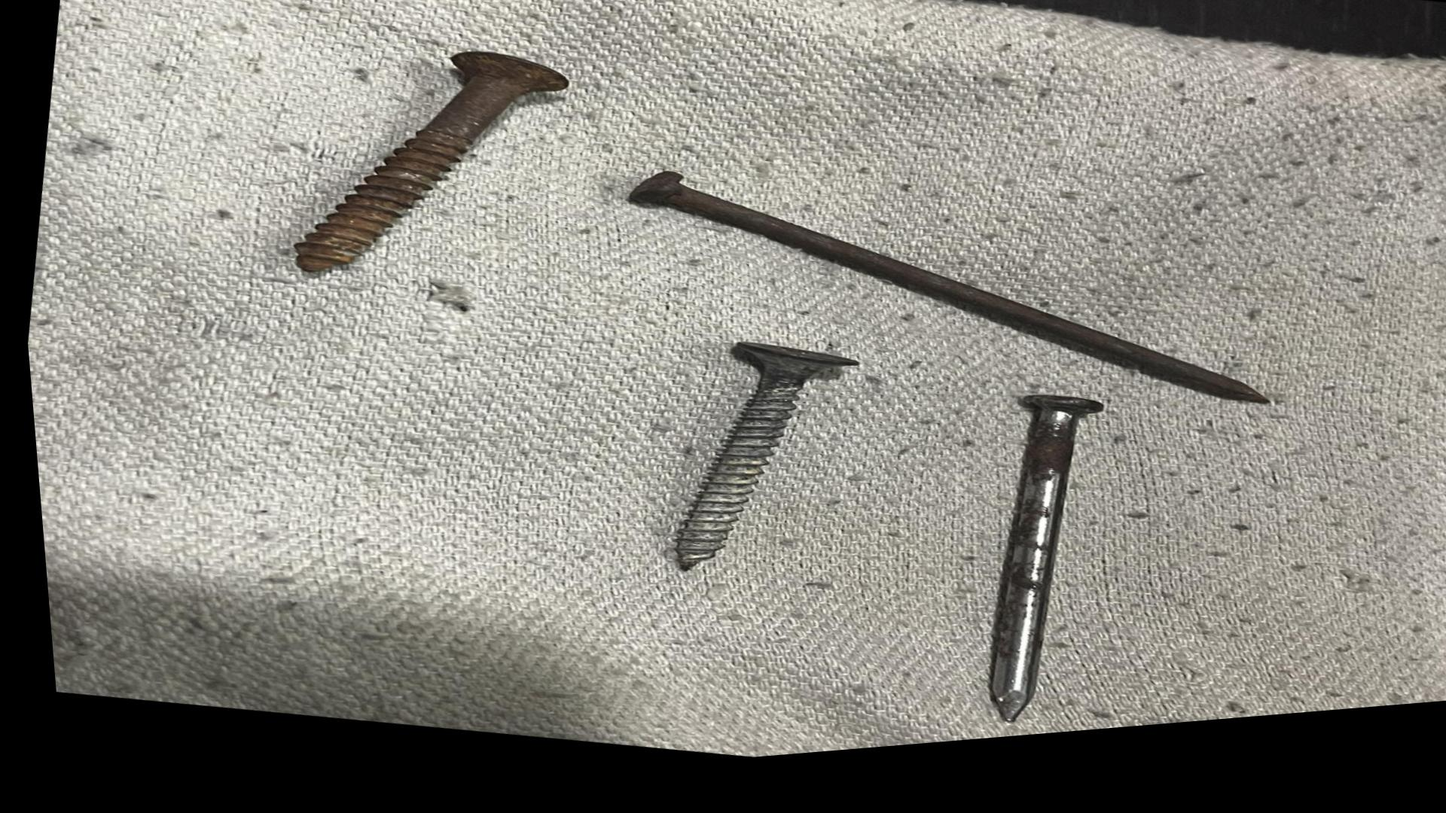nail: (577, 114, 1343, 487), (915, 372, 1146, 756)
screw: (223, 0, 611, 359), (600, 299, 885, 630)
